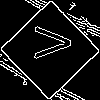V: (25, 25, 72, 60)
